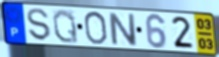2: (170, 16, 196, 51)
6: (145, 12, 167, 50)
N: (106, 11, 139, 48)
O: (83, 11, 109, 46)
Q: (51, 8, 80, 45)
S: (26, 8, 53, 43)
